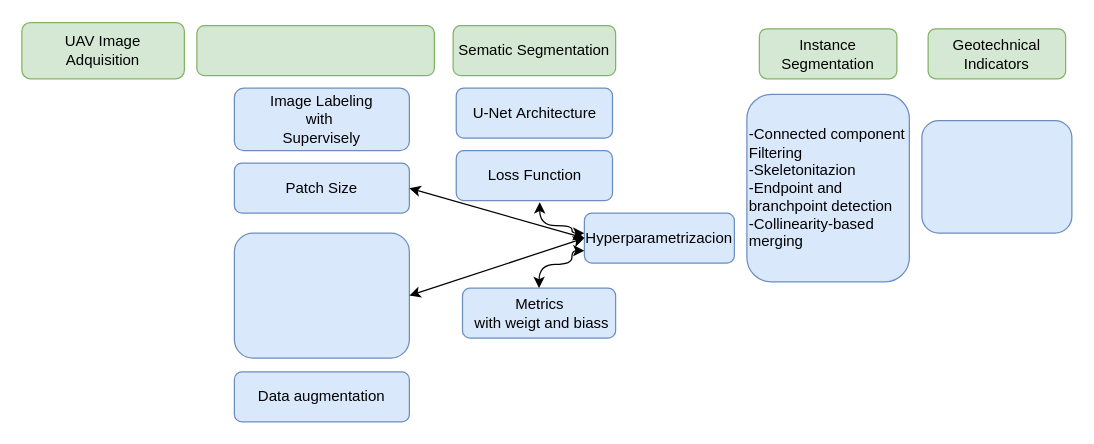
This 1094x444 diagram has some shape labels left out. The shapes that lost their labels are listed below. From the top down, each one's box as (x1, y1, x2, y2) in pixels, then its label:
(196, 24, 434, 76): Dataset Preparation
(921, 119, 1072, 233): -Persistence -Aperture -Roughness (Z2/JRC) -Curviness -Connectivity
(233, 232, 409, 358): Pre-processing - Raw Images -Gaussian -Clahe -Histogram Equalization
